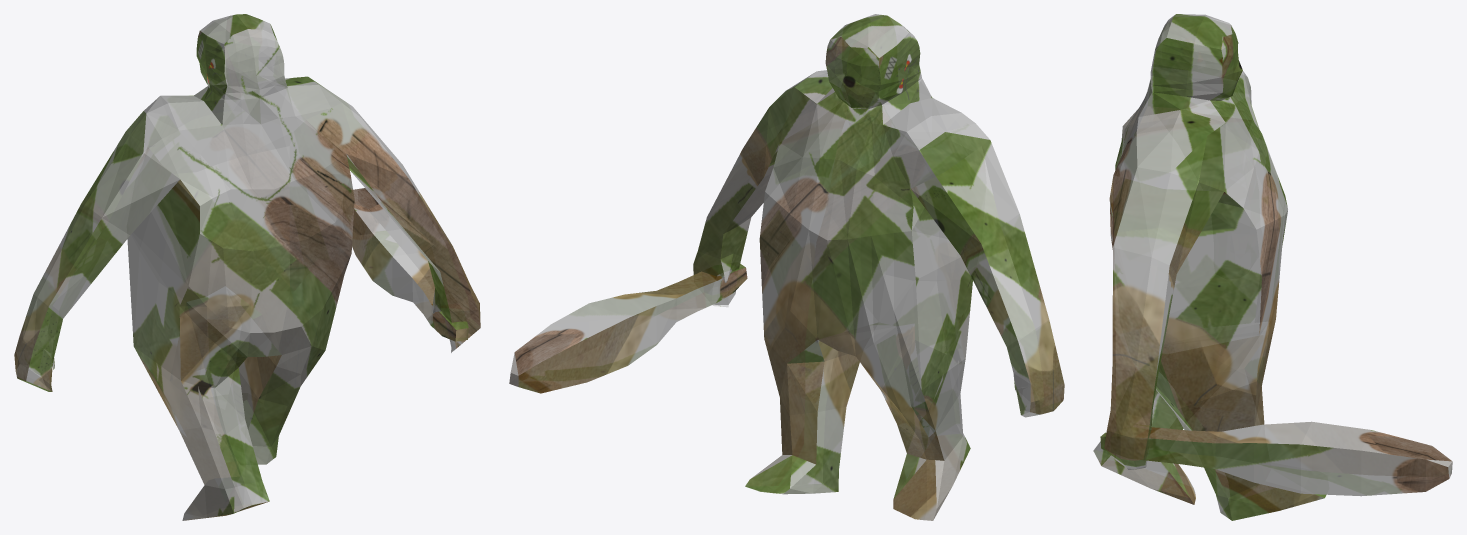
File: Enemigo26.obj
3 views of the same model, side by side, from view 1: azimuth 30°, elevation 25°; view 2: azimuth 150°, elevation 25°; view 3: azimuth 270°, elevation 25° (orthographic). The views are drawn at different scales.
Parts seen in each view (by area): view 1: Cube; view 2: Cube; view 3: Cube.
Boxes of the visible parts, bbox=[...] form: Cube: bbox=[14, 14, 480, 520]; Cube: bbox=[509, 14, 1064, 520]; Cube: bbox=[1093, 14, 1452, 520].
Size of the model in its own units: 2.72 by 2.83 by 1.83.
